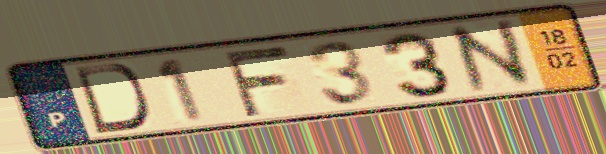1: (151, 55, 208, 125)
3: (378, 30, 456, 100), (305, 39, 378, 106)
D: (70, 61, 153, 136)
F: (218, 42, 294, 119)
N: (441, 16, 541, 97)
